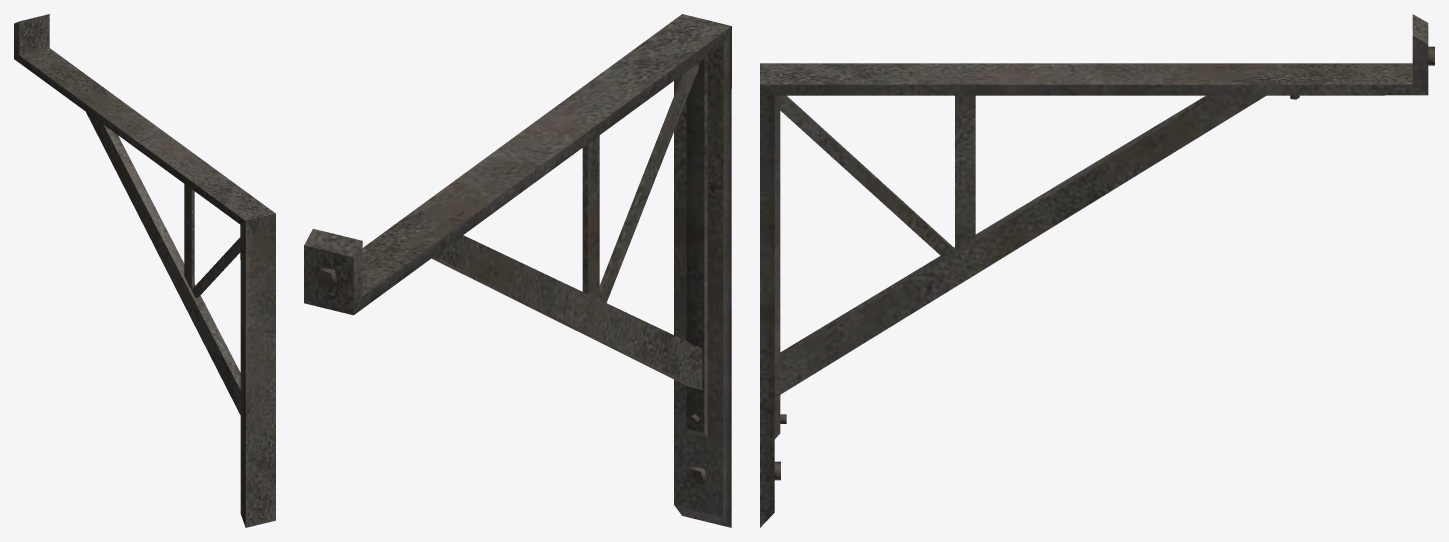
Rendered from prison_bracket001a.glb.
3 renders of one model, left to right at view 1: azimuth 30°, elevation 25°; view 2: azimuth 150°, elevation 25°; view 3: azimuth 270°, elevation 25°, orthographic. The views are drawn at different scales.
Parts seen in each view (by area): view 1: 0_prison_objects005; view 2: 0_prison_objects005; view 3: 0_prison_objects005.
Boxes of the visible parts, left/top/right/bottom form: 0_prison_objects005: left=14, top=14, right=275, bottom=527; 0_prison_objects005: left=304, top=14, right=731, bottom=527; 0_prison_objects005: left=760, top=14, right=1434, bottom=527.
Bounding box in the file's own units: 0.127 × 1.36 × 1.68.
1 material, 1 textured.
